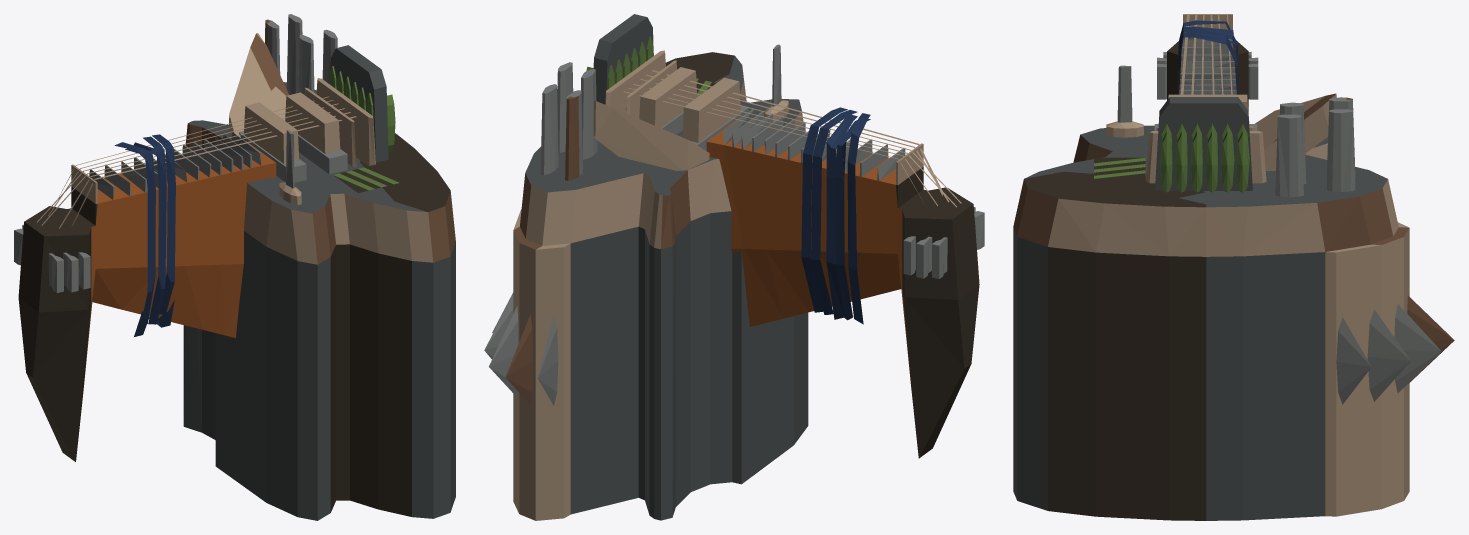
The model's file is electric-guitar.glb.
3 renders of one model, left to right at view 1: azimuth 30°, elevation 25°; view 2: azimuth 150°, elevation 25°; view 3: azimuth 270°, elevation 25°, orthographic. The views are drawn at different scales.
Size of the model in its own units: 1 by 1 by 1.
